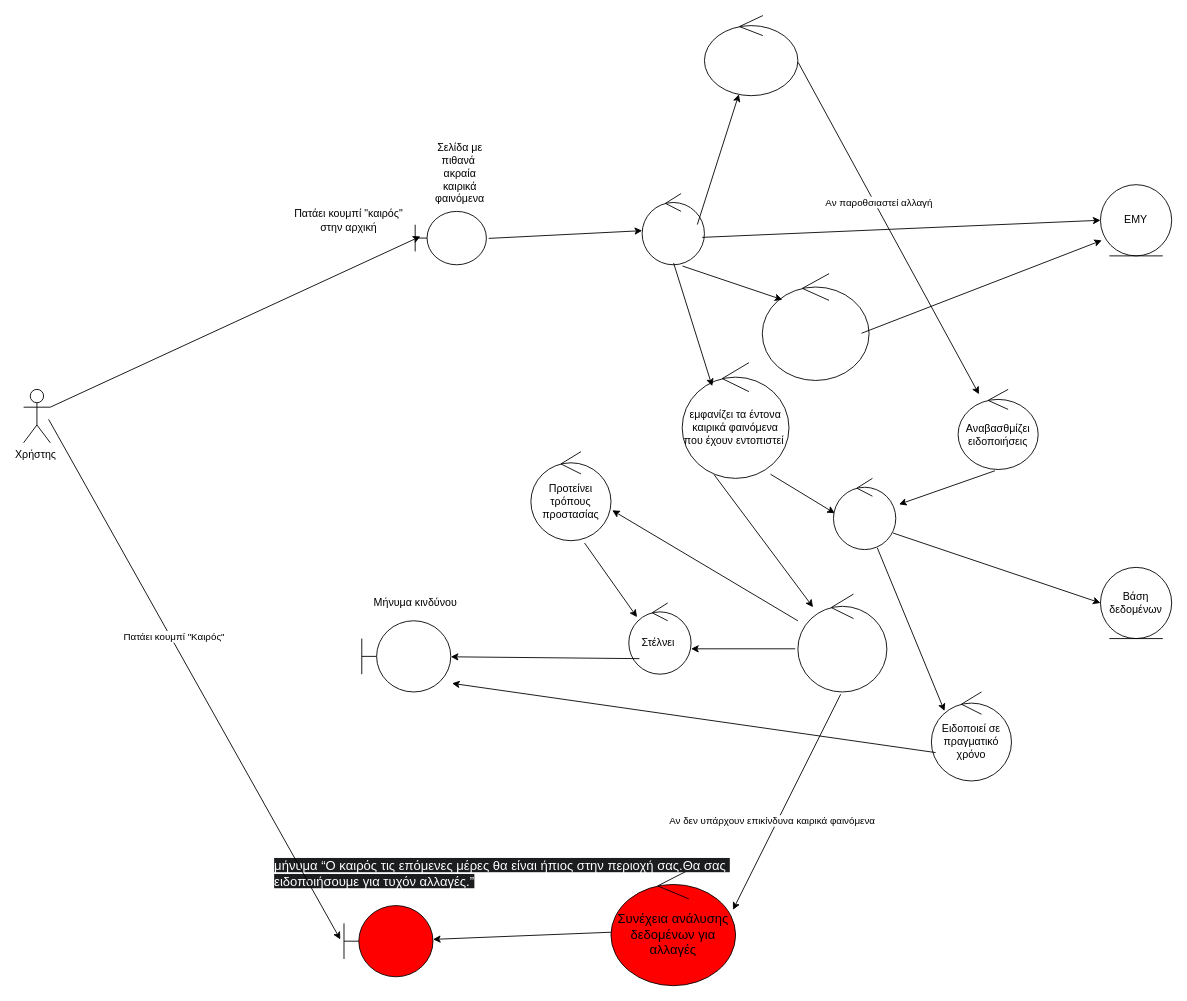
Some shapes in this 1187 by 1001 pixel diagram are drawn without their labels. The shapes that lost their labels are listed below. From the top down, each one's centre as x and y in pixels, then its label:
At (x=751, y=55): "Παρακολούθηση δεδομένων καιρου".
At (x=672, y=229): "Σύνδεση".
At (x=815, y=326): "Αντλεί και αναλύει τα δεδομένα καιρού".
At (x=864, y=513): "Αποθηκεύει".
At (x=842, y=642): "Αξιολογεί το ποσοστό κινδύνου για κάθε περιοχή".
